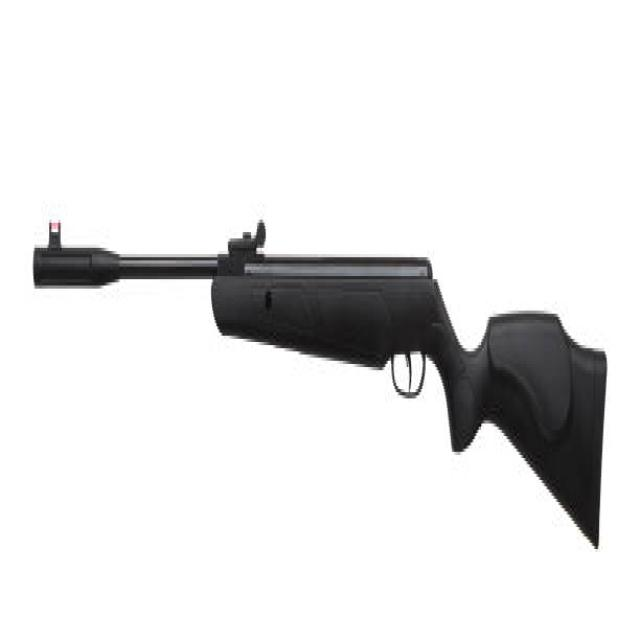rifle: (30, 189, 609, 559)
